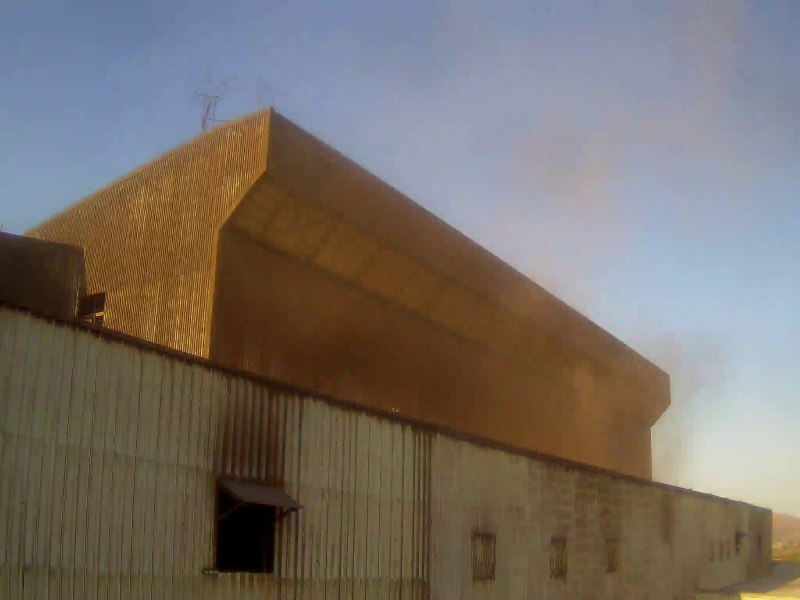pessimo: (316, 26, 724, 496)
